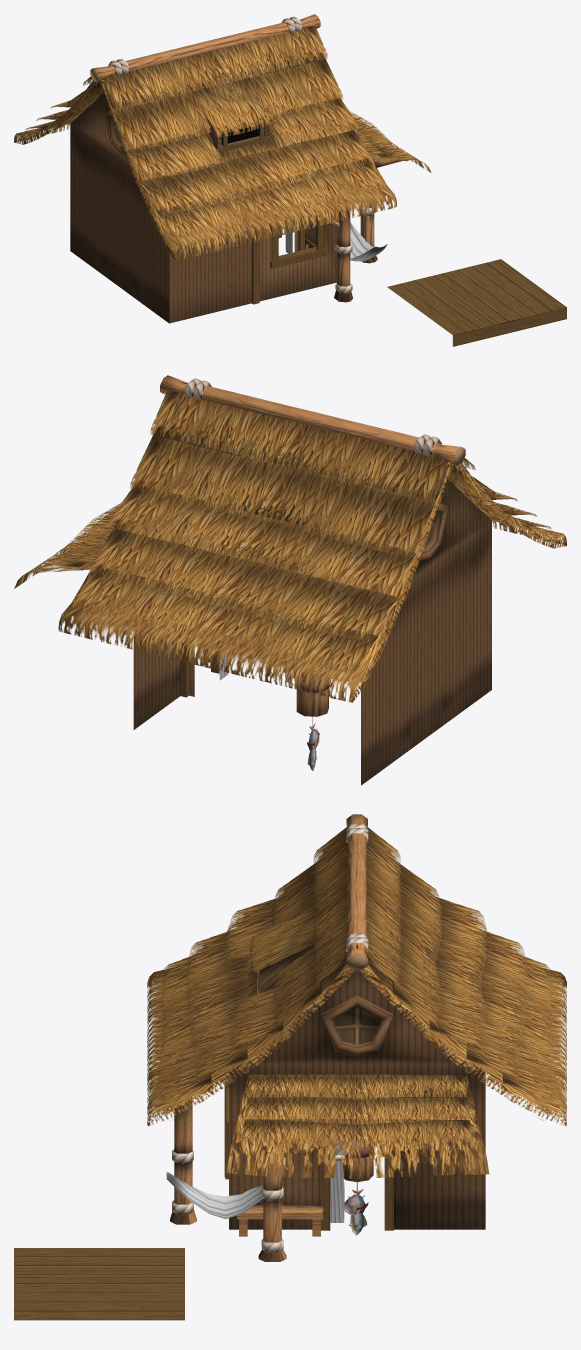
Rendered from village.glb.
3 views of the same model, one above another, from view 1: azimuth 30°, elevation 25°; view 2: azimuth 150°, elevation 25°; view 3: azimuth 270°, elevation 25° (orthographic). The views are drawn at different scales.
Visible parts, largest first — view 1: RoofWithWindow, houseback, plank_tile, housesidenowindow, houseside, roofbeam, RoofNoWindow, plank_side, pillarHouse2, frontRoof, HouseWindow, pillarHouse1 (+2 smaller); view 2: RoofNoWindow, houseback, roofbeam, house_front, RoofWithWindow, frontRoof, WaterPillar, HouseDoor; view 3: RoofNoWindow, RoofWithWindow, house_front, frontRoof, plank_tile, roofbeam, pillarHouse2, pillarHouse1, Hammock, HouseDoor, Bench, door_curtain (+1 smaller).
Part boxes in pixels (left/top/right/bottom): RoofWithWindow: left=99, top=19, right=396, bottom=260; houseback: left=70, top=93, right=169, bottom=322; plank_tile: left=387, top=259, right=566, bottom=334; housesidenowindow: left=169, top=227, right=251, bottom=323; houseside: left=259, top=210, right=336, bottom=301; roofbeam: left=90, top=14, right=320, bottom=82; RoofNoWindow: left=14, top=76, right=106, bottom=144; plank_side: left=452, top=307, right=566, bottom=346; pillarHouse2: left=313, top=204, right=352, bottom=302; frontRoof: left=349, top=110, right=431, bottom=172; HouseWindow: left=270, top=211, right=326, bottom=268; pillarHouse1: left=359, top=150, right=406, bottom=263; RoofNoWindow: left=58, top=382, right=453, bottom=702; houseback: left=361, top=477, right=491, bottom=785; roofbeam: left=160, top=375, right=465, bottom=465; house_front: left=133, top=628, right=234, bottom=729; RoofWithWindow: left=444, top=455, right=566, bottom=548; frontRoof: left=14, top=502, right=121, bottom=588; WaterPillar: left=296, top=671, right=328, bottom=716; HouseDoor: left=180, top=636, right=219, bottom=697; RoofNoWindow: left=357, top=827, right=566, bottom=1126; RoofWithWindow: left=147, top=823, right=357, bottom=1126; house_front: left=229, top=970, right=485, bottom=1229; frontRoof: left=226, top=1074, right=489, bottom=1178; plank_tile: left=14, top=1248, right=184, bottom=1320; roofbeam: left=346, top=814, right=368, bottom=970; pillarHouse2: left=170, top=1097, right=196, bottom=1224; pillarHouse1: left=258, top=1113, right=286, bottom=1261; Hammock: left=166, top=1171, right=284, bottom=1218; HouseDoor: left=321, top=1138, right=393, bottom=1230; Bench: left=237, top=1205, right=323, bottom=1236; door_curtain: left=330, top=1140, right=359, bottom=1222.
Size of the model in its own units: 5.96 by 4.56 by 6.47.
4 materials, 4 textured.
